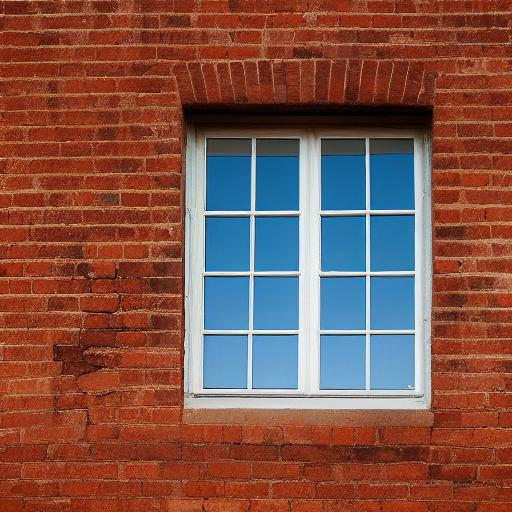Window: (172, 60, 449, 431)
